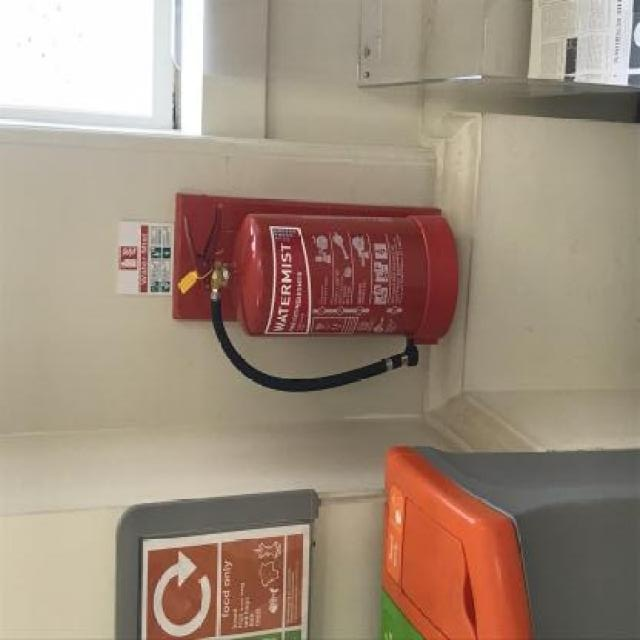fire extinguisher: (182, 203, 460, 394)
